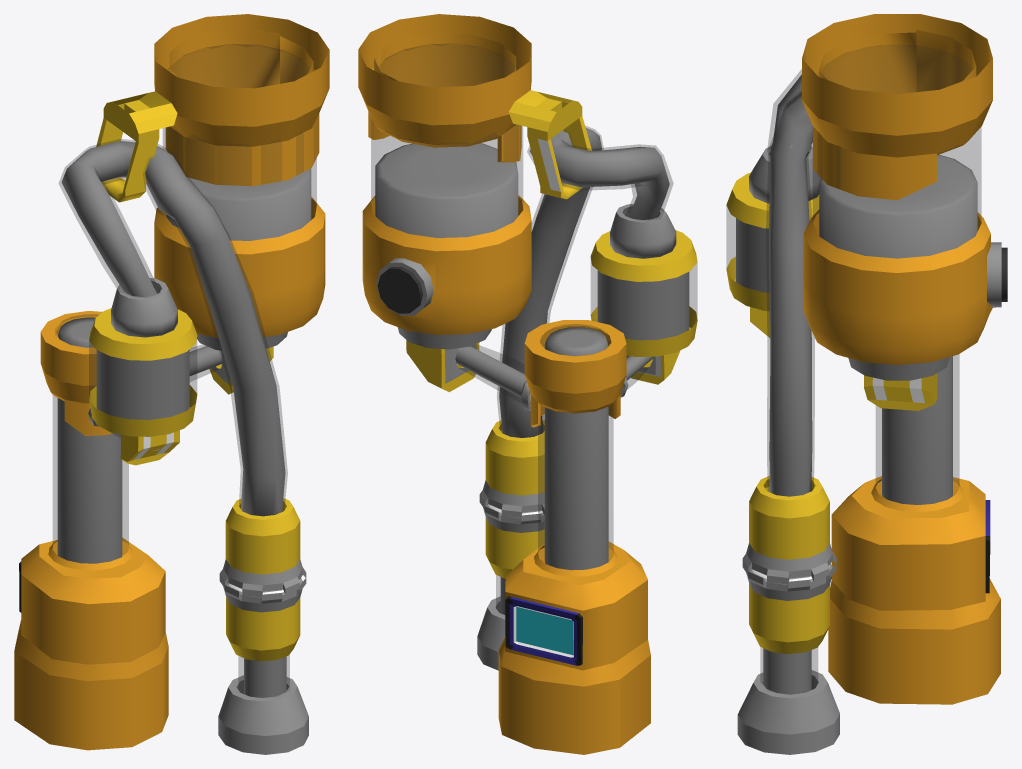
Rendered from Pump1.FBX.
3 views of the same model, side by side, from view 1: azimuth 30°, elevation 25°; view 2: azimuth 150°, elevation 25°; view 3: azimuth 270°, elevation 25° (orthographic). The views are drawn at different scales.
Parts seen in each view (by area): view 1: Pump02, Pump01, Pump11, Pump04, Pump07, Pump03, Pump23, Pump22, Pump05, Pump14, Pump15, Pump19 (+10 smaller); view 2: Pump01, Pump02, Pump11, Pump04, Pump07, Pump23, Pump15, Pump22, Pump03, Pump17, Pump14, Pump05 (+10 smaller); view 3: Pump01, Pump02, Pump11, Pump04, Pump07, Pump15, Pump23, Pump05, Pump22, Pump19, Pump06, Pump03 (+7 smaller).
Boxes of the visible parts, x1=… form: Pump02: x1=14, y1=537, x2=168, y2=750; Pump01: x1=154, y1=44, x2=325, y2=338; Pump11: x1=154, y1=14, x2=329, y2=186; Pump04: x1=59, y1=139, x2=287, y2=515; Pump07: x1=61, y1=141, x2=285, y2=516; Pump03: x1=89, y1=308, x2=197, y2=436; Pump23: x1=48, y1=395, x2=133, y2=570; Pump22: x1=57, y1=317, x2=122, y2=563; Pump05: x1=219, y1=498, x2=306, y2=597; Pump14: x1=96, y1=349, x2=189, y2=419; Pump15: x1=166, y1=168, x2=311, y2=240; Pump19: x1=218, y1=675, x2=308, y2=754; Pump01: x1=362, y1=44, x2=531, y2=334; Pump02: x1=498, y1=541, x2=650, y2=754; Pump11: x1=358, y1=14, x2=531, y2=162; Pump04: x1=497, y1=126, x2=673, y2=437; Pump07: x1=499, y1=128, x2=669, y2=437; Pump23: x1=534, y1=403, x2=617, y2=576; Pump15: x1=375, y1=143, x2=518, y2=237; Pump22: x1=544, y1=327, x2=608, y2=570; Pump03: x1=590, y1=230, x2=697, y2=356; Pump17: x1=524, y1=320, x2=626, y2=427; Pump14: x1=597, y1=270, x2=689, y2=340; Pump05: x1=479, y1=420, x2=544, y2=517; Pump01: x1=803, y1=45, x2=1007, y2=364; Pump02: x1=828, y1=476, x2=1000, y2=704; Pump11: x1=802, y1=14, x2=992, y2=200; Pump04: x1=766, y1=69, x2=814, y2=495; Pump07: x1=769, y1=74, x2=812, y2=496; Pump15: x1=819, y1=154, x2=977, y2=258; Pump23: x1=871, y1=354, x2=963, y2=512; Pump05: x1=742, y1=476, x2=836, y2=584; Pump22: x1=882, y1=356, x2=952, y2=504; Pump19: x1=737, y1=670, x2=839, y2=754; Pump06: x1=742, y1=563, x2=836, y2=653; Pump03: x1=726, y1=172, x2=819, y2=311.
Bounding box in the file's own units: 0.6128 × 1.35 × 0.4942.
